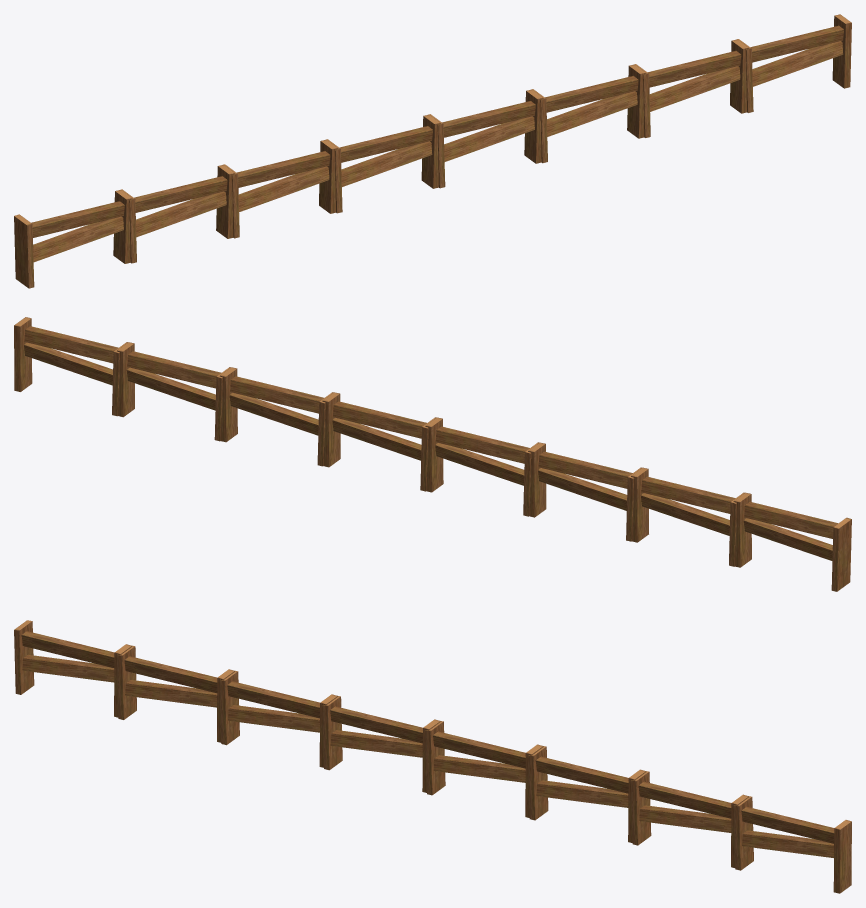
File: fence.glb
3 views of the same model, one above another, from view 1: azimuth 30°, elevation 25°; view 2: azimuth 150°, elevation 25°; view 3: azimuth 330°, elevation 25° (orthographic).
Parts seen in each view (by area): view 1: Prop_WoodenFence_Single.001; view 2: Prop_WoodenFence_Single.001; view 3: Prop_WoodenFence_Single.001.
Boxes of the visible parts, box(x1,y1,x2,y2) form: Prop_WoodenFence_Single.001: box(14, 14, 851, 288); Prop_WoodenFence_Single.001: box(14, 317, 851, 591); Prop_WoodenFence_Single.001: box(14, 620, 851, 893).
Size of the model in its own units: 10.8 by 0.81 by 0.3.
Materials: 1 (1 with a texture image).
